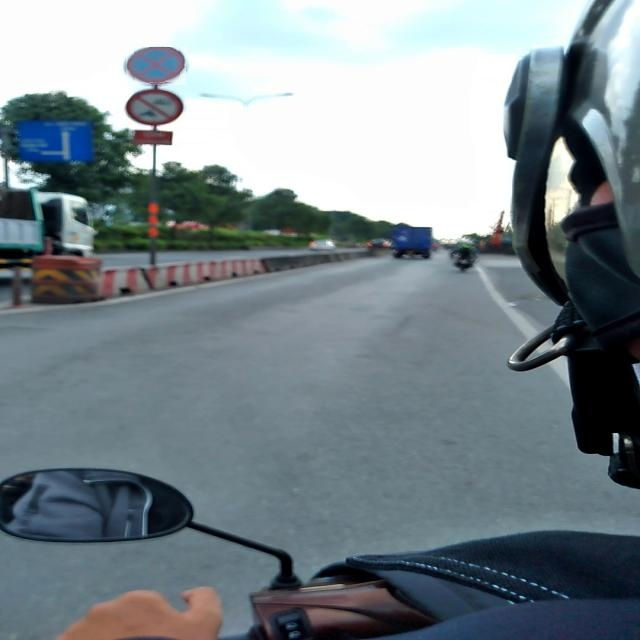bien_chi_dan: (126, 47, 186, 85)
